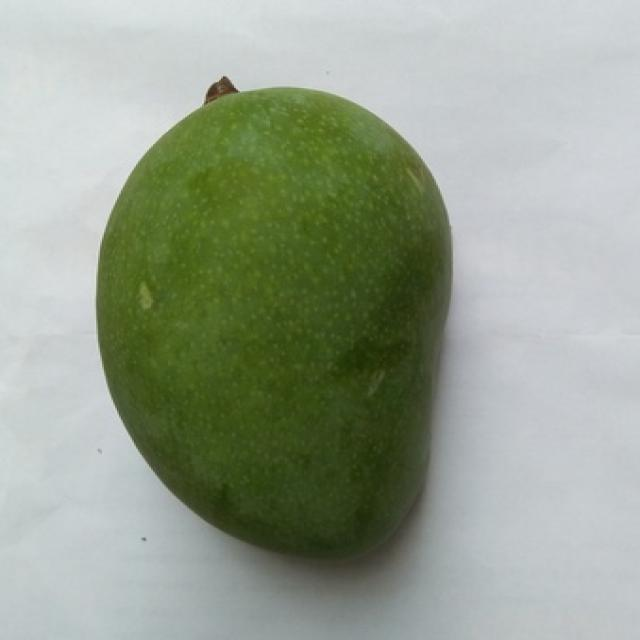Mango: (96, 88, 451, 557)
